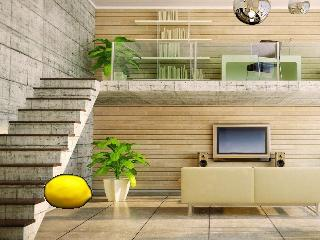lemon: (45, 175, 91, 208)
